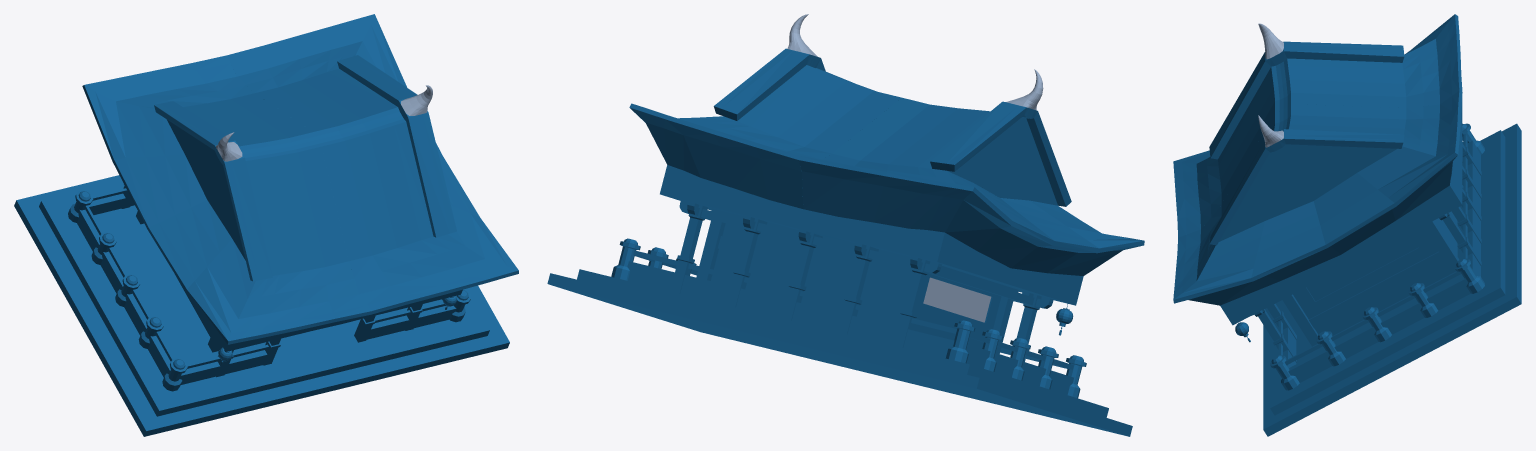
File: temple_k2.glb
The picture shows the model from 3 angles, left to right: view 1: azimuth 30°, elevation 25°; view 2: azimuth 150°, elevation 25°; view 3: azimuth 270°, elevation 25°; orthographic projection. The views are drawn at different scales.
Parts seen in each view (by area): view 1: world; view 2: world; view 3: world.
Part boxes in pixels (x1,y1,x2,y2): world: (14,14,518,436); world: (547,14,1144,436); world: (1173,14,1521,436).
Size of the model in its own units: 1.52 by 1.15 by 1.29.
